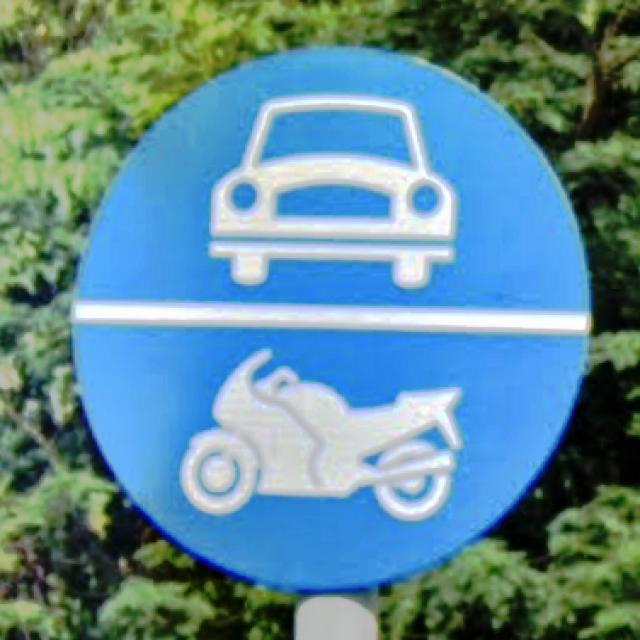carmotorcycle: (74, 49, 589, 591)
